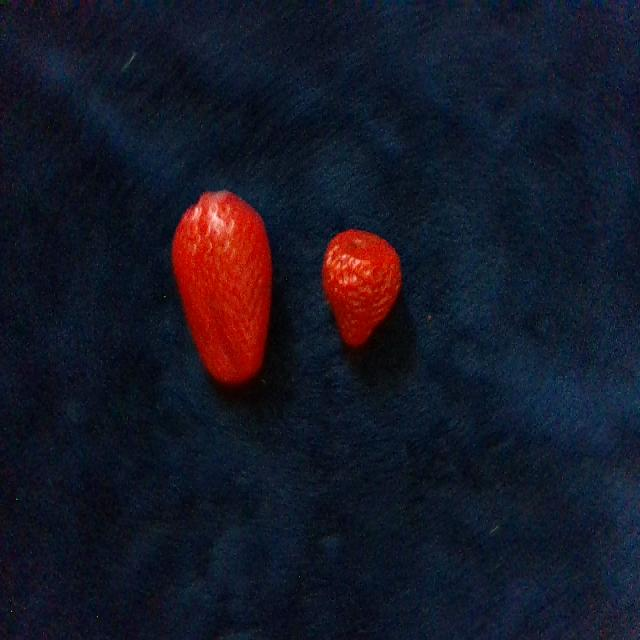chica_roja: (323, 229, 401, 345)
grande_roja: (173, 192, 271, 383)
